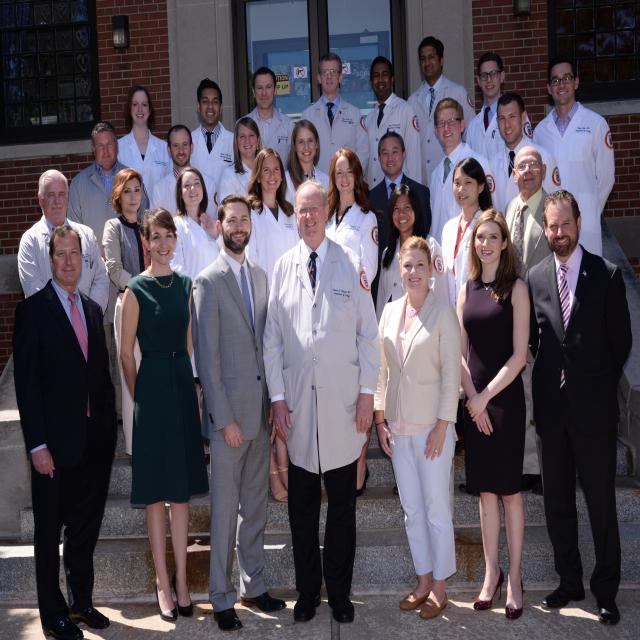body: (258, 174, 387, 630), (184, 191, 290, 637), (524, 190, 632, 626), (17, 222, 114, 640), (368, 232, 469, 626), (116, 205, 209, 628), (455, 208, 533, 620), (66, 121, 151, 428), (244, 147, 304, 504), (504, 146, 561, 497), (324, 148, 380, 494), (532, 54, 617, 262), (438, 156, 495, 457), (170, 166, 224, 464), (101, 168, 153, 466), (17, 168, 110, 318), (366, 130, 432, 313), (428, 97, 499, 251), (374, 182, 447, 328), (407, 36, 475, 192), (486, 91, 564, 220), (299, 51, 371, 180), (363, 54, 423, 191), (464, 51, 534, 162), (189, 77, 236, 241), (149, 122, 220, 224), (116, 84, 175, 204), (233, 65, 297, 173), (279, 118, 332, 214), (216, 116, 265, 207)
